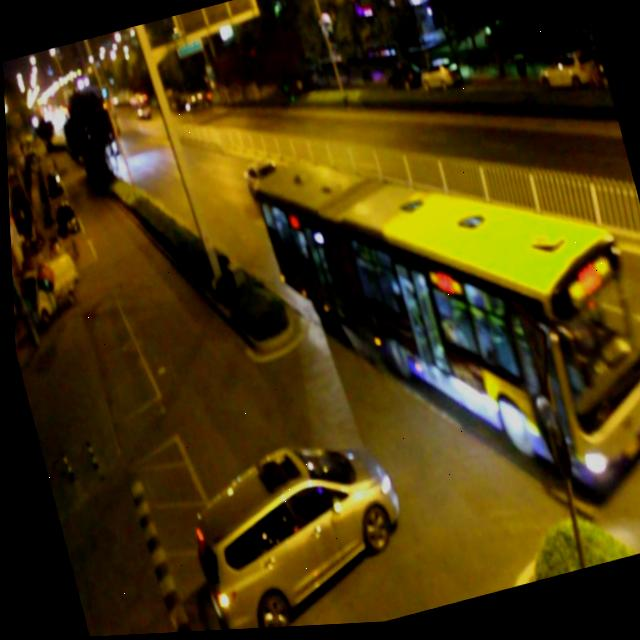car: (174, 426, 416, 634), (239, 158, 281, 204)
van: (247, 88, 640, 555)
